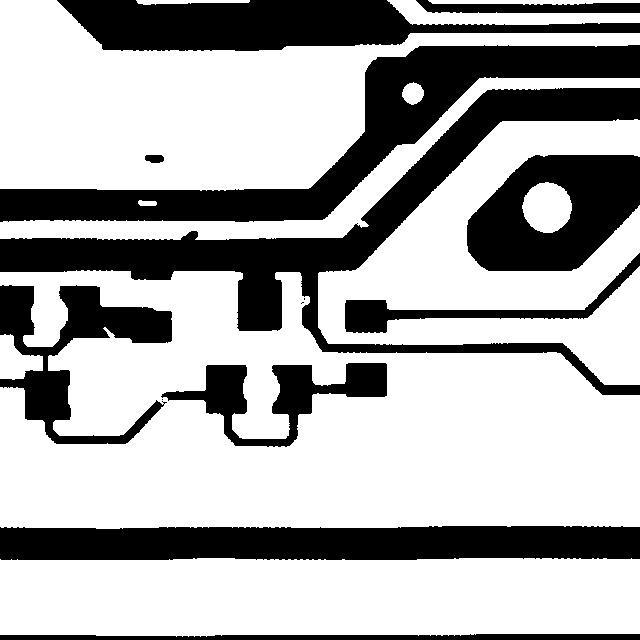copper: (135, 145, 173, 172)
mousebite: (93, 317, 124, 348), (345, 209, 378, 237), (290, 286, 319, 317)
open: (144, 387, 177, 414)
pin-hole: (128, 190, 166, 215)
short: (33, 342, 57, 384)
spur: (171, 221, 207, 252)
